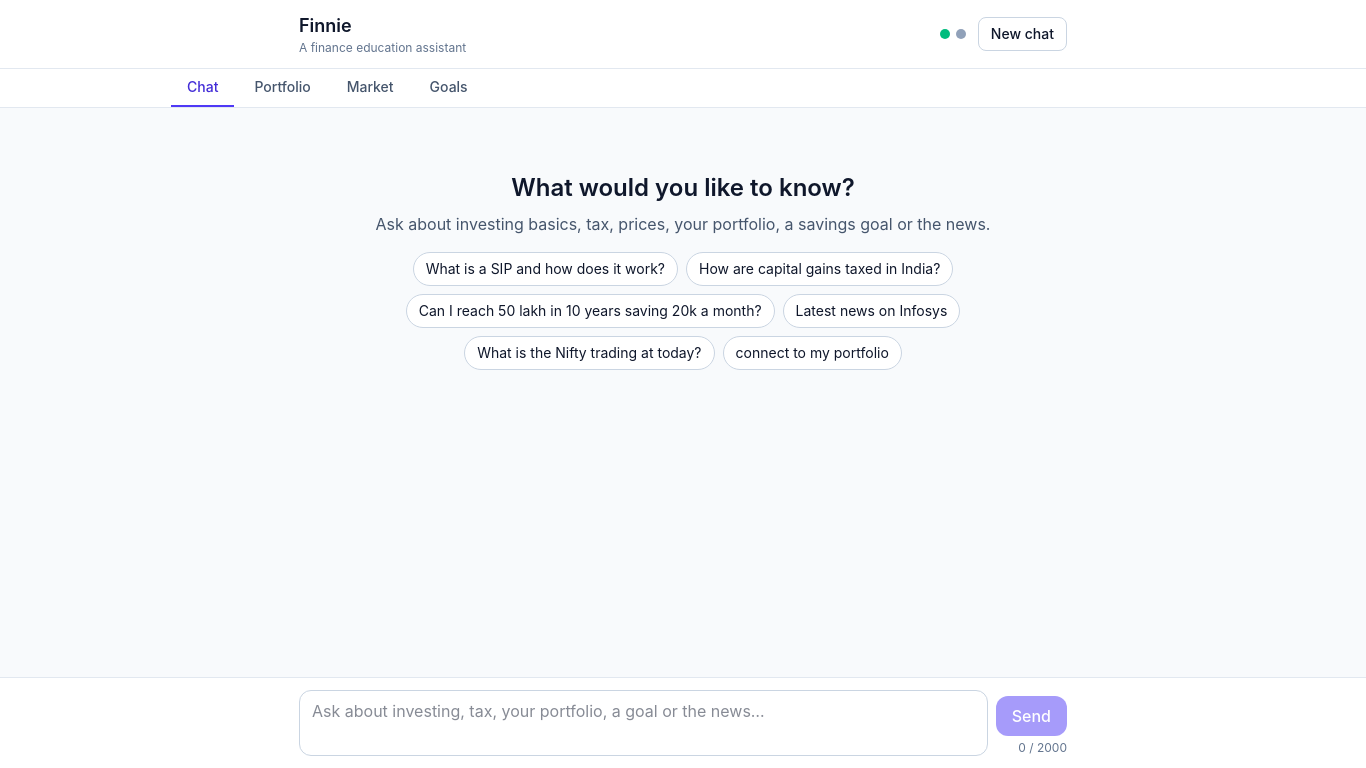
Test: App › starts a new chat: ends the session and shows the welcome again
This screenshot has width=1366, height=768.
In the text box: (643, 723) [299,690,988,756], type "hi"
Then press Enter
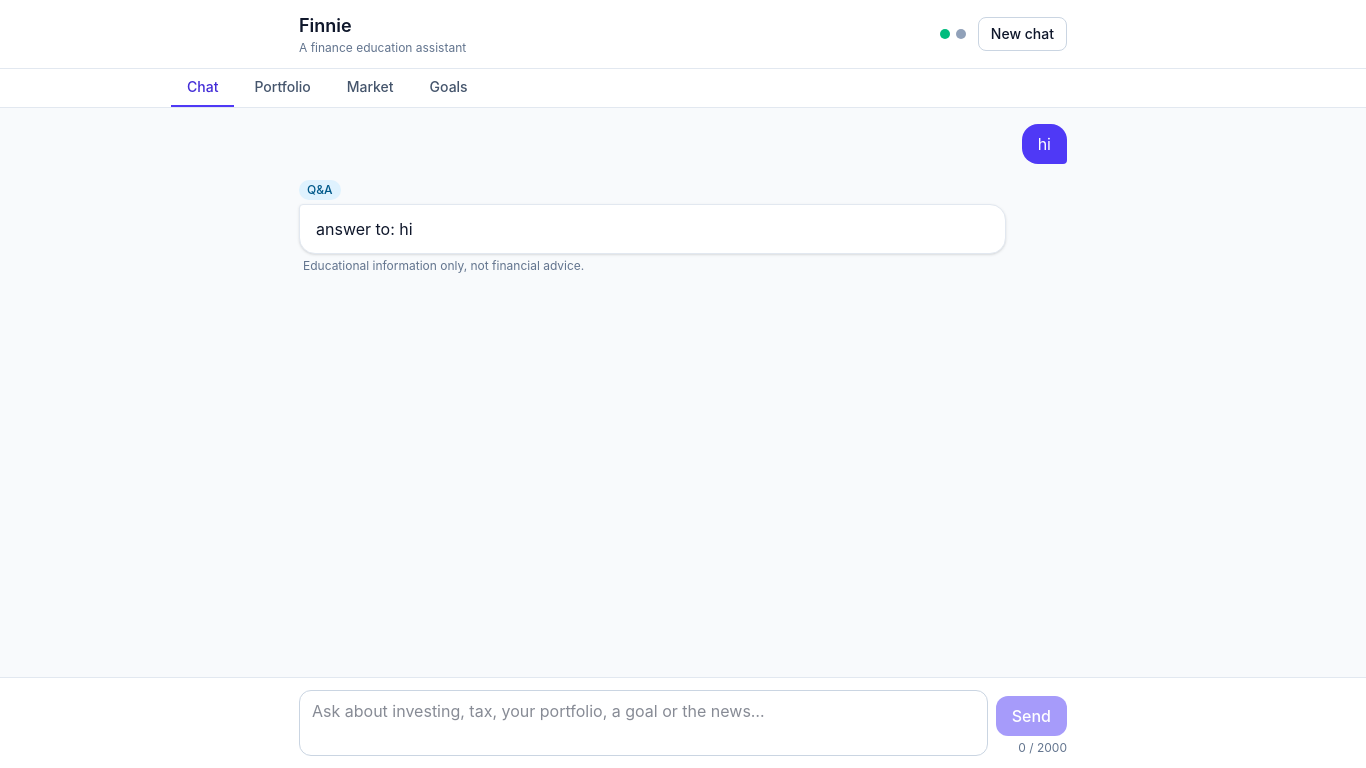
Check: the text "answer to: hi" is shown, box [316,219,413,239]
Click the button "New chat": (1022, 34) [978,17,1067,51]
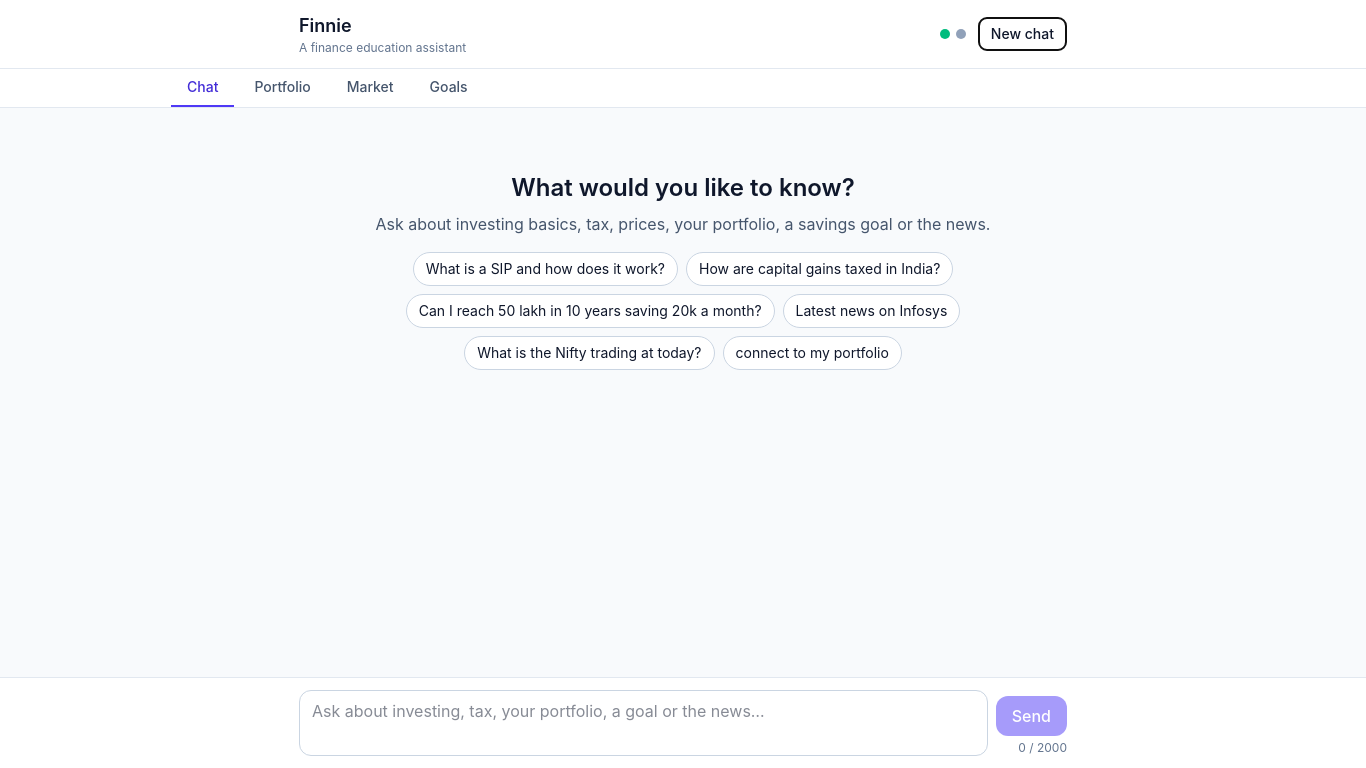
Check: the heading "What would you like to know?" is shown, box [511,173,855,202]
Check: the text "answer to: hi" is gone
